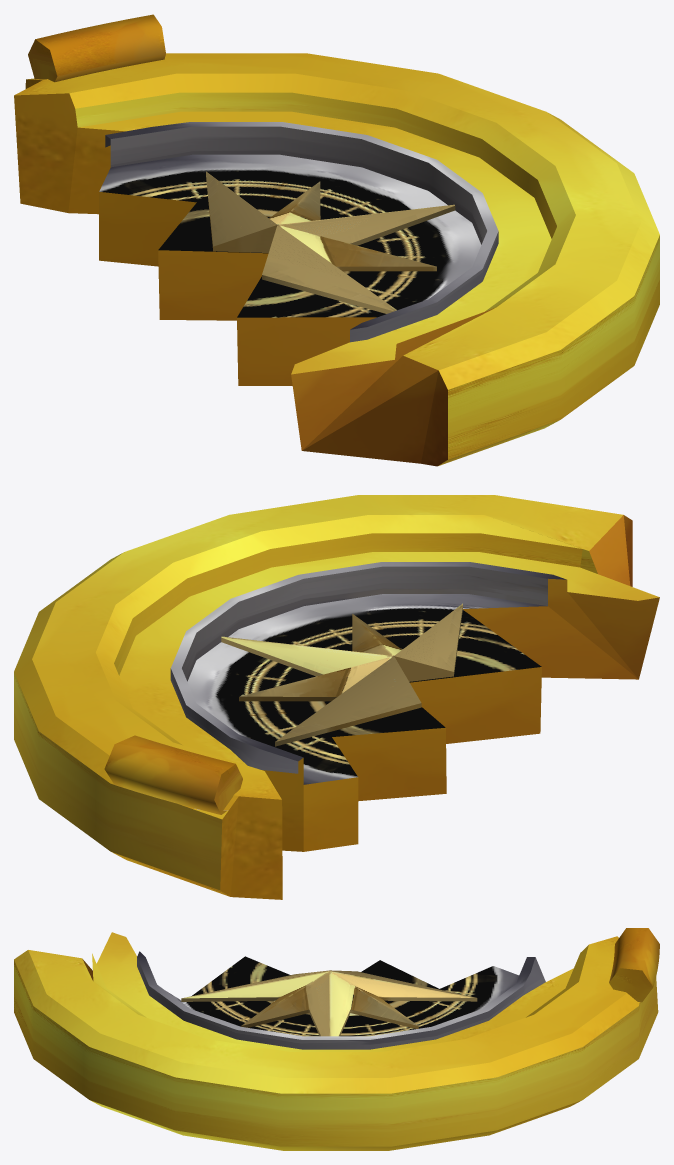
File: compass_half2.FBX
3 renders of one model, top to bottom at view 1: azimuth 30°, elevation 25°; view 2: azimuth 150°, elevation 25°; view 3: azimuth 270°, elevation 25°, orthographic. The views are drawn at different scales.
Visible parts, largest first — view 1: Object001, Object002, Object003; view 2: Object001, Object002, Object003; view 3: Object001, Object002, Object003.
Part boxes in pixels (x1,y1,x2,y2): Object001: (14,53,659,466); Object002: (206,171,455,313); Object003: (28,14,165,82); Object001: (14,495,659,899); Object002: (221,603,462,746); Object003: (104,735,242,814); Object001: (14,932,658,1150); Object002: (181,970,477,1036); Object003: (609,928,659,1002).
Bounding box in the file's own units: 24.53 × 7.08 × 39.78.
